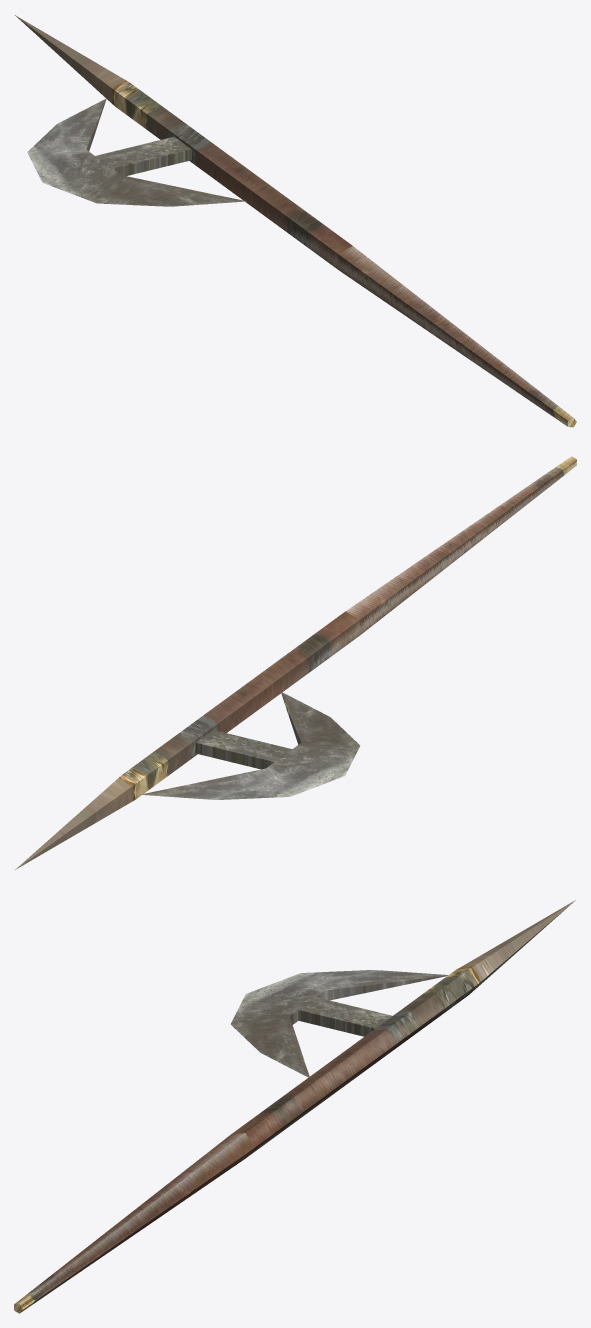
File: ps1-ottoman-war-axe.glb
3 views of the same model, one above another, from view 1: azimuth 30°, elevation 25°; view 2: azimuth 150°, elevation 25°; view 3: azimuth 330°, elevation 25° (orthographic).
Parts seen in each view (by area): view 1: Ottoman_War_Axe; view 2: Ottoman_War_Axe; view 3: Ottoman_War_Axe.
Part boxes in pixels (box(x1,y1,x2,y2)): Ottoman_War_Axe: box(15, 15, 576, 427); Ottoman_War_Axe: box(15, 456, 576, 869); Ottoman_War_Axe: box(14, 900, 575, 1313).
Bounding box in the file's own units: 12.72 × 1.9 × 75.
2 materials, 2 textured.
